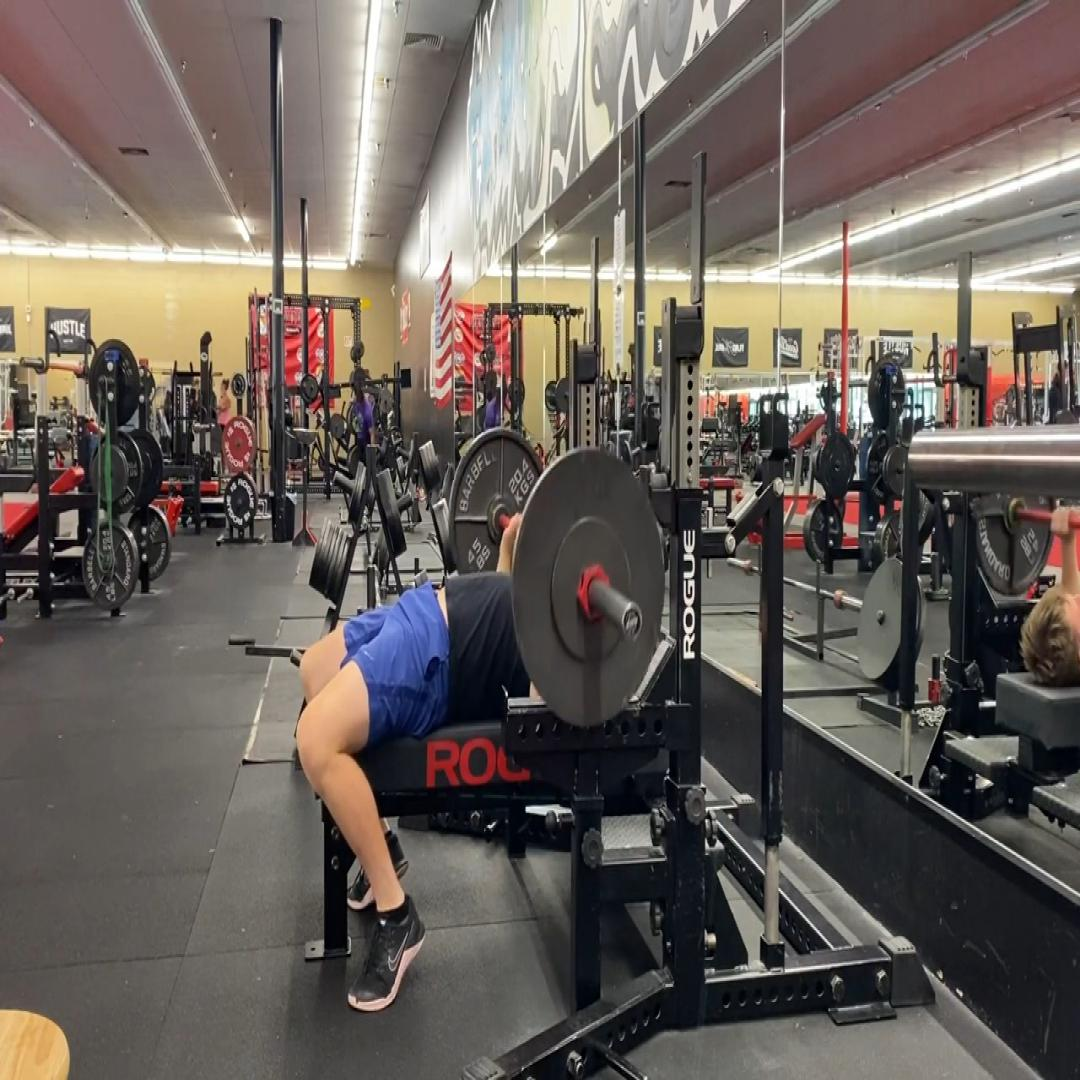Bar: (622, 603, 643, 641)
Barbell: (510, 448, 664, 727)
